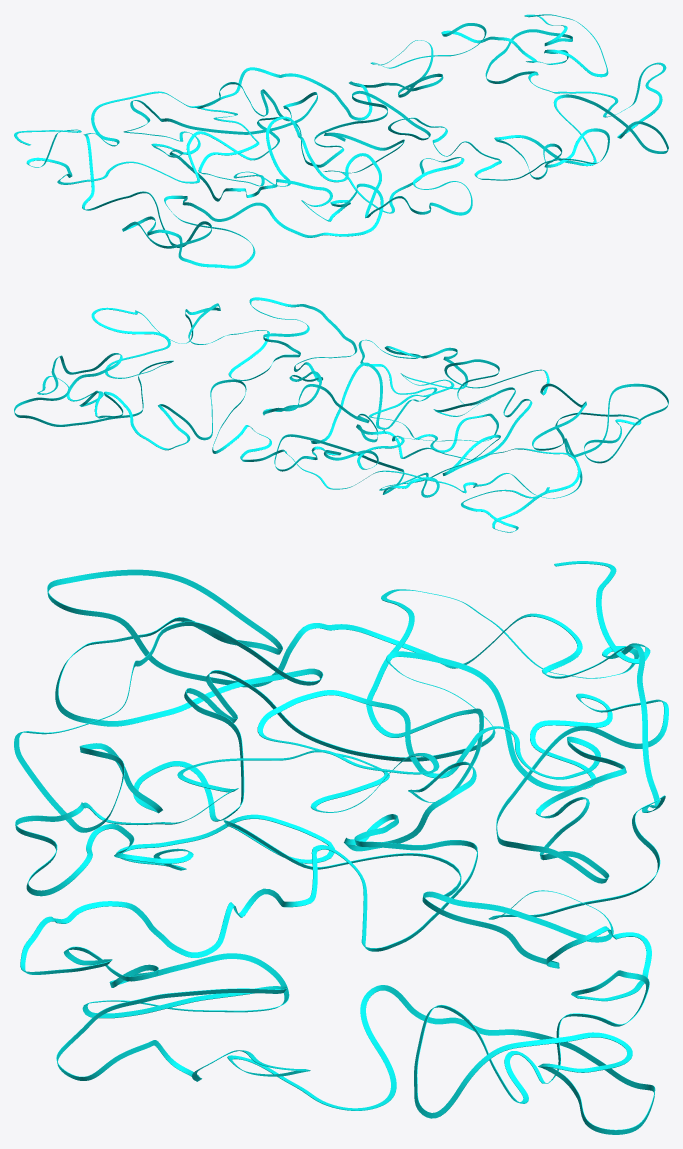
File: try1.fbx
3 renders of one model, top to bottom at view 1: azimuth 30°, elevation 25°; view 2: azimuth 150°, elevation 25°; view 3: azimuth 270°, elevation 25°, orthographic. The views are drawn at different scales.
Parts seen in each view (by area): view 1: try1; view 2: try1; view 3: try1.
Boxes of the visible parts, bbox=[...] form: try1: bbox=[14, 14, 668, 268]; try1: bbox=[14, 297, 668, 532]; try1: bbox=[14, 561, 668, 1134].
Size of the model in its own units: 421 by 32 by 231.
